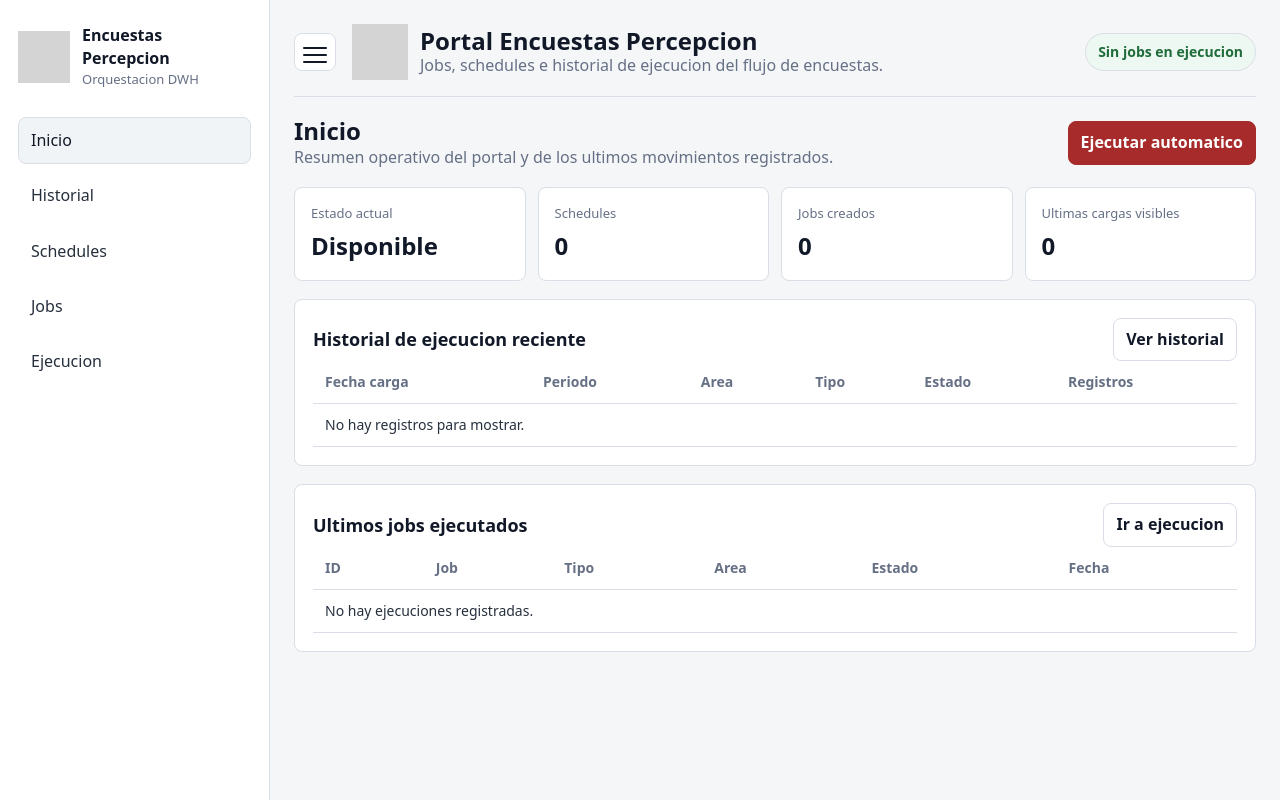
Test case: Portal Encuestas Percepcion › colapsa y recupera el menu hamburguesa
Step 1. Click the button named "Abrir menu de navegacion" → (315, 52), box [294,33,336,71]
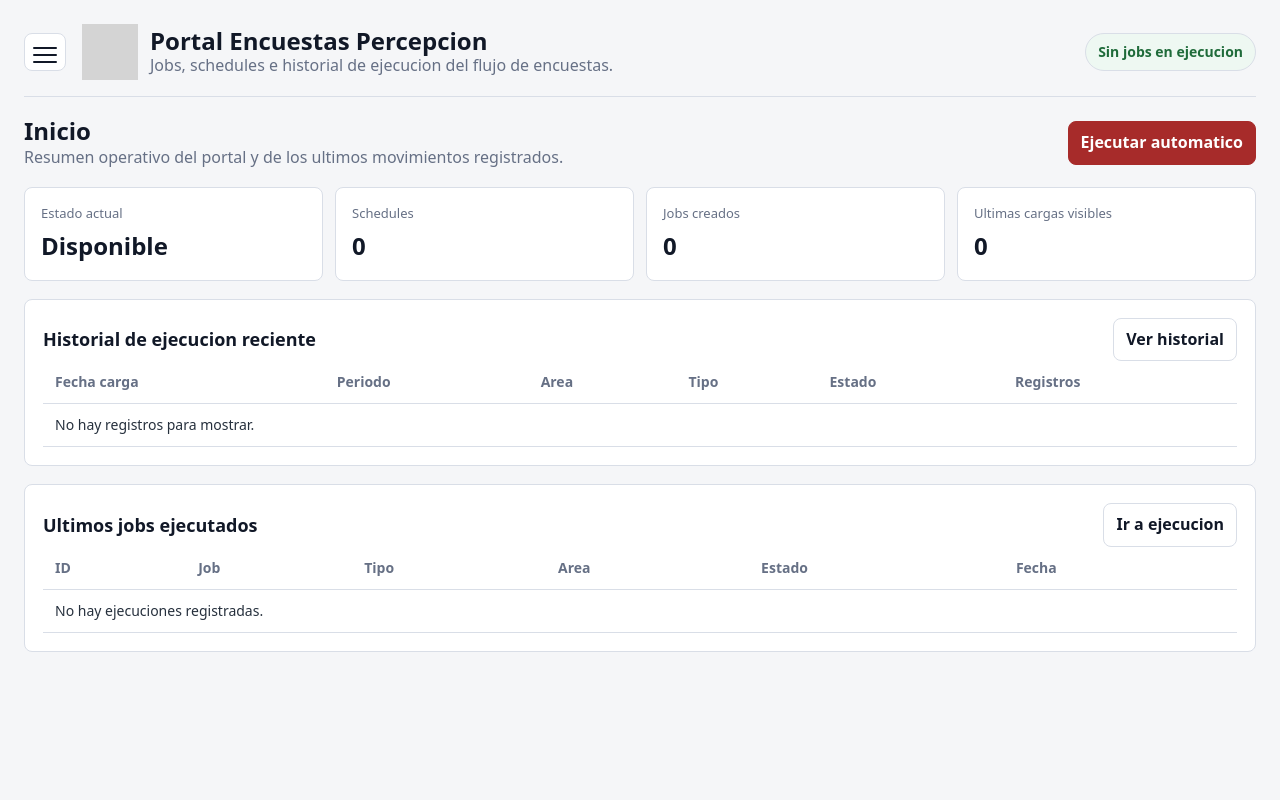
Result: the button named "Abrir menu de navegacion" is collapsed
Step 2. Click the button named "Abrir menu de navegacion" → (45, 52), box [24,33,66,71]
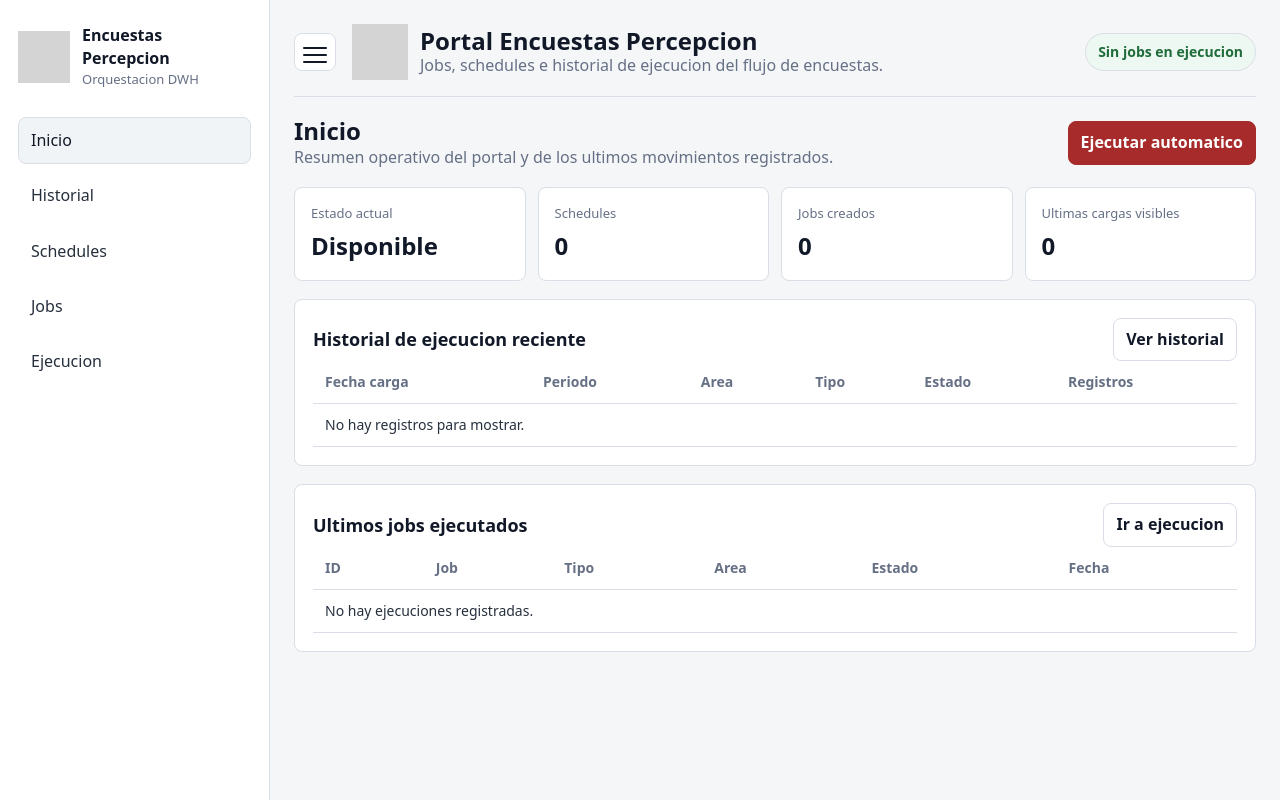
Result: the button named "Abrir menu de navegacion" is expanded at [294,33,336,71]
